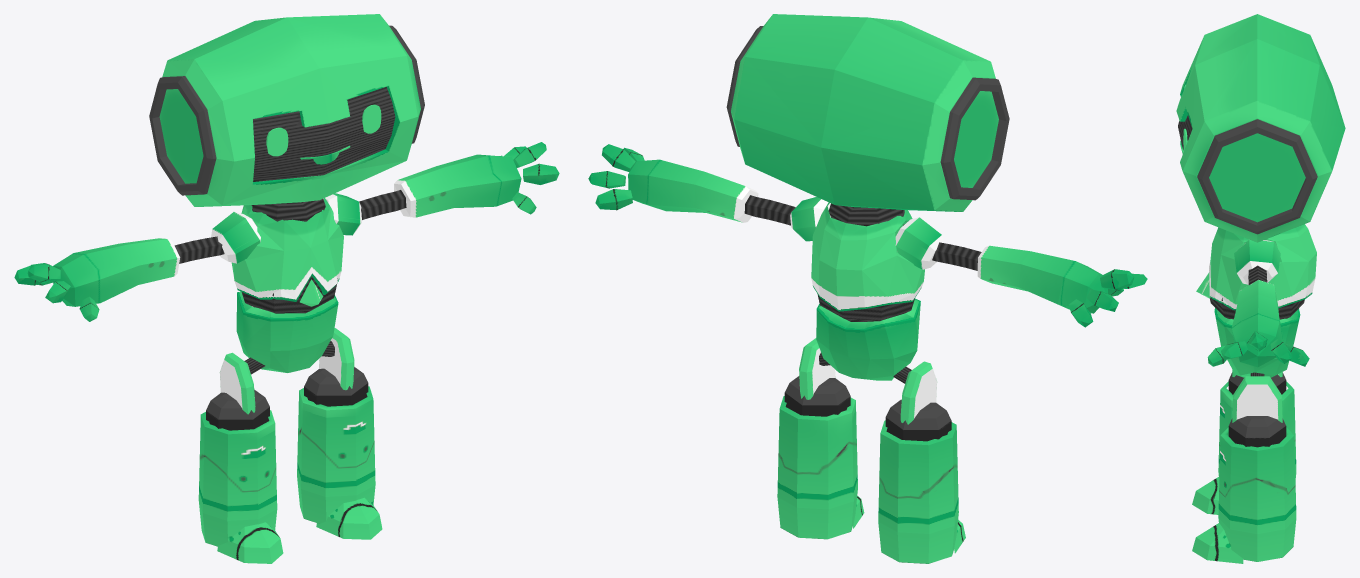
The model's file is polybot-unskinned-tpose.glb.
3 renders of one model, left to right at view 1: azimuth 30°, elevation 25°; view 2: azimuth 150°, elevation 25°; view 3: azimuth 270°, elevation 25°, orthographic. The views are drawn at different scales.
Visible parts, largest first — view 1: Polybot; view 2: Polybot; view 3: Polybot.
Boxes of the visible parts, x1=… form: Polybot: x1=14, y1=14, x2=559, y2=563; Polybot: x1=588, y1=14, x2=1147, y2=563; Polybot: x1=1176, y1=14, x2=1345, y2=563.
Size of the model in its own units: 1.13 by 1.06 by 0.3337.
1 material, 1 textured.
